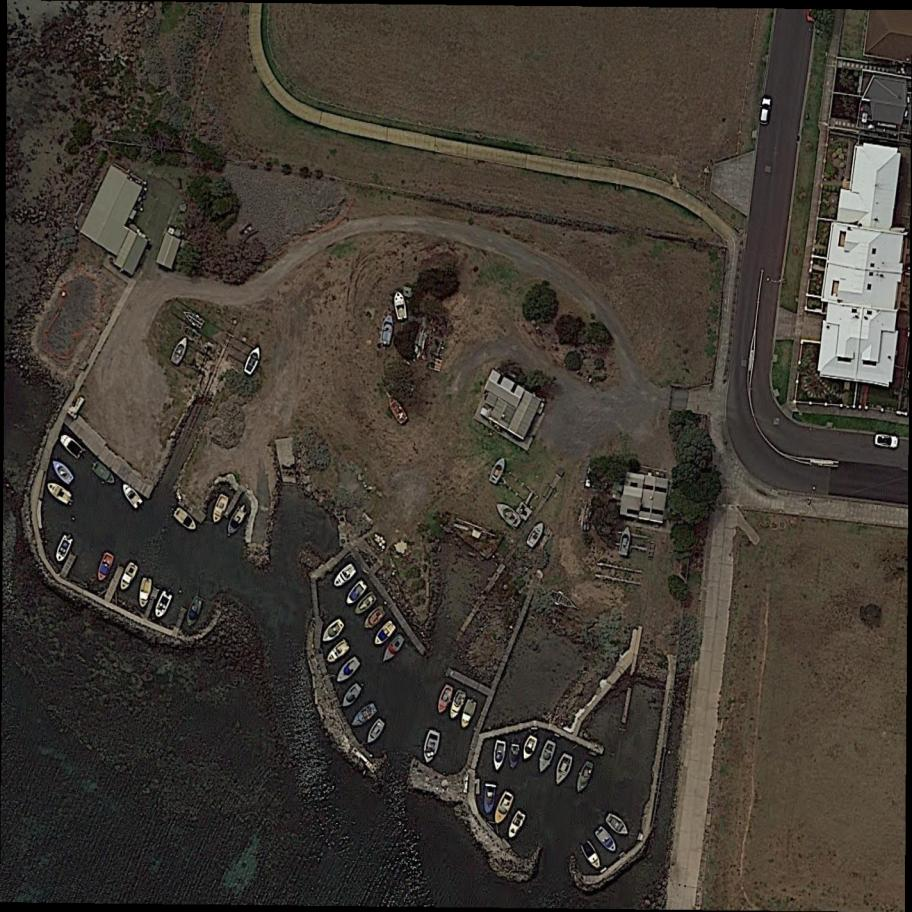ship: (491, 497, 526, 531), (489, 789, 518, 828), (378, 633, 409, 667), (331, 656, 364, 687), (345, 702, 380, 731), (534, 739, 560, 776), (171, 504, 203, 534), (593, 825, 622, 857), (223, 504, 250, 538), (384, 393, 411, 427), (551, 753, 577, 788), (573, 759, 598, 795), (317, 618, 348, 647), (182, 594, 207, 629), (370, 620, 400, 649), (89, 459, 119, 488), (57, 431, 87, 460), (360, 604, 390, 633), (579, 838, 604, 872), (94, 550, 118, 585), (602, 810, 632, 838), (330, 563, 360, 591), (420, 728, 442, 766), (49, 457, 76, 487), (323, 639, 353, 666), (504, 809, 529, 841), (51, 533, 75, 566), (241, 344, 265, 377), (341, 579, 369, 607), (339, 682, 365, 712), (119, 481, 145, 511), (44, 479, 74, 505), (523, 519, 549, 549), (116, 561, 140, 593), (168, 335, 191, 368), (208, 492, 231, 525), (152, 589, 175, 621), (487, 455, 510, 487), (351, 591, 379, 617), (446, 689, 468, 722), (458, 698, 479, 731), (363, 718, 387, 746), (435, 684, 455, 717), (518, 734, 540, 763), (378, 314, 397, 346), (491, 738, 508, 773), (618, 526, 634, 557), (138, 577, 153, 608), (393, 290, 408, 321), (482, 783, 496, 815), (507, 742, 522, 771)
small-vehicle: (874, 433, 901, 450), (757, 97, 772, 126)
